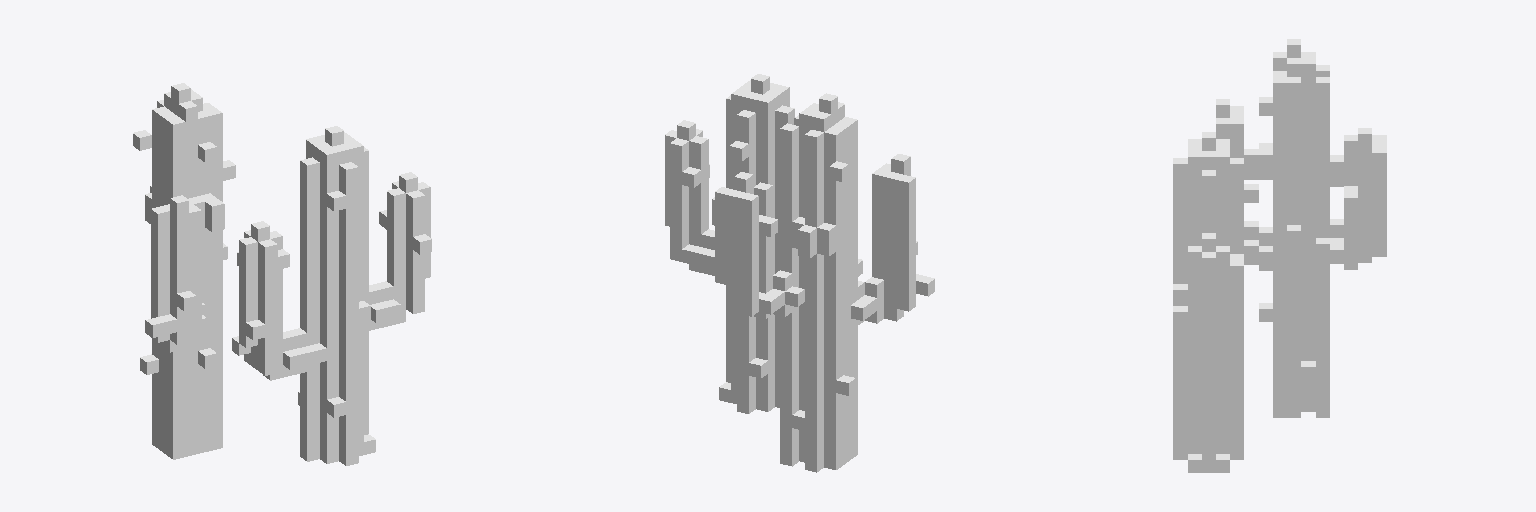
File: cactusTwo.obj
3 views of the same model, side by side, from view 1: azimuth 30°, elevation 25°; view 2: azimuth 150°, elevation 25°; view 3: azimuth 270°, elevation 25° (orthographic).
Visible parts, largest first — view 1: object 1; view 2: object 1; view 3: object 1.
Part boxes in pixels (x1,y1,x2,y2): object 1: (133,83,431,465); object 1: (665,74,934,472); object 1: (1173,39,1386,472).
Bounding box in the file's own units: 2.2 × 2.8 × 1.5.